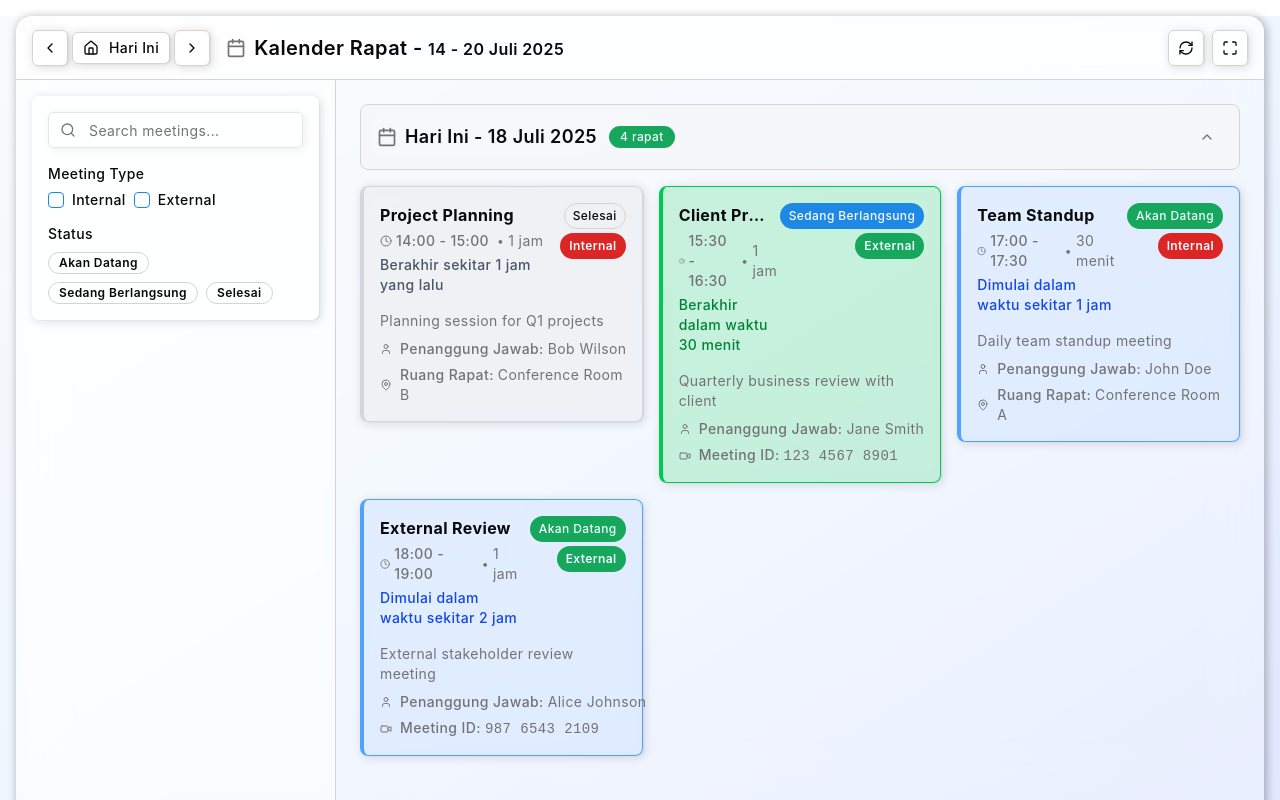
Test case: PublicCalendar Integration Tests › Date Navigation › should return to current week when today button is clicked
Expected: the heading "Team Standup" is shown, [977, 205, 1095, 225]
Note: Navigate away first
Click the button titled "Minggu selanjutnya" at (192, 48), box [174, 30, 210, 66]
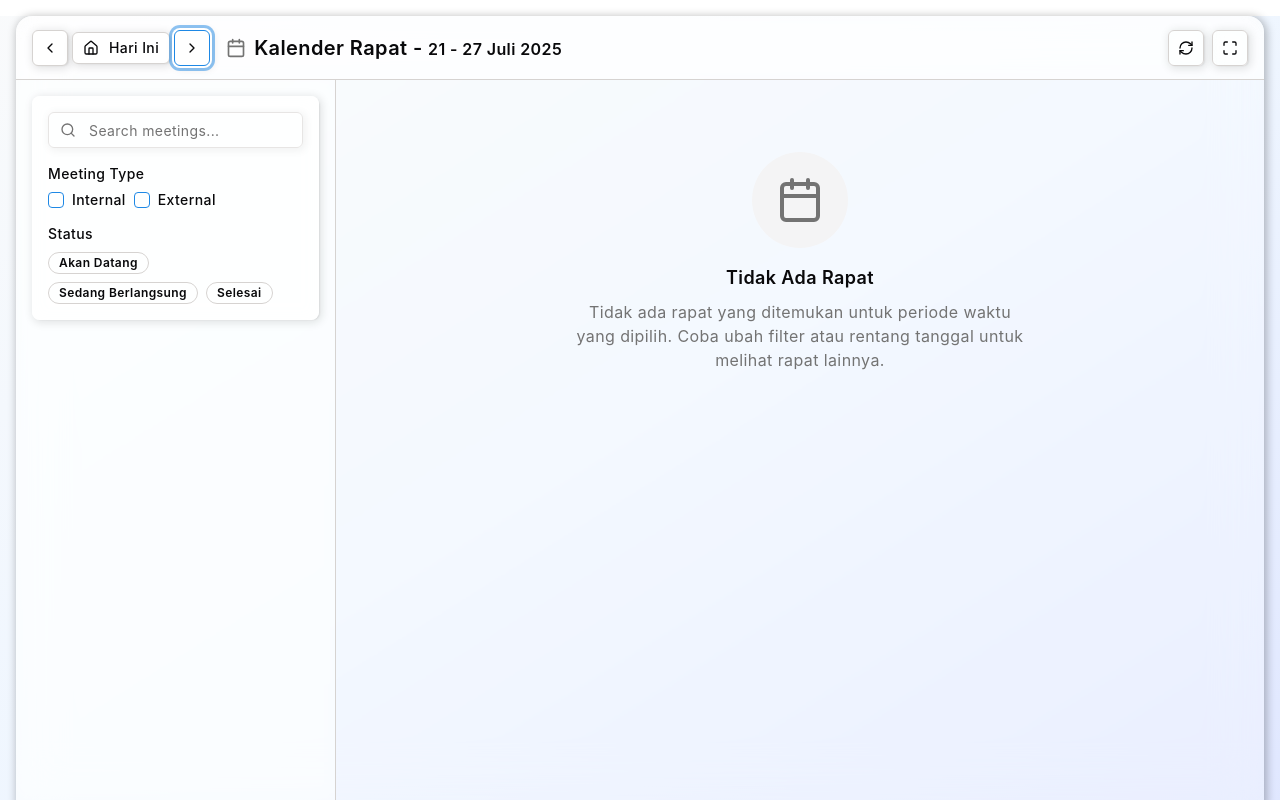
Note: Then click today button
Click the button "Hari Ini" at (121, 48), box [72, 32, 170, 64]
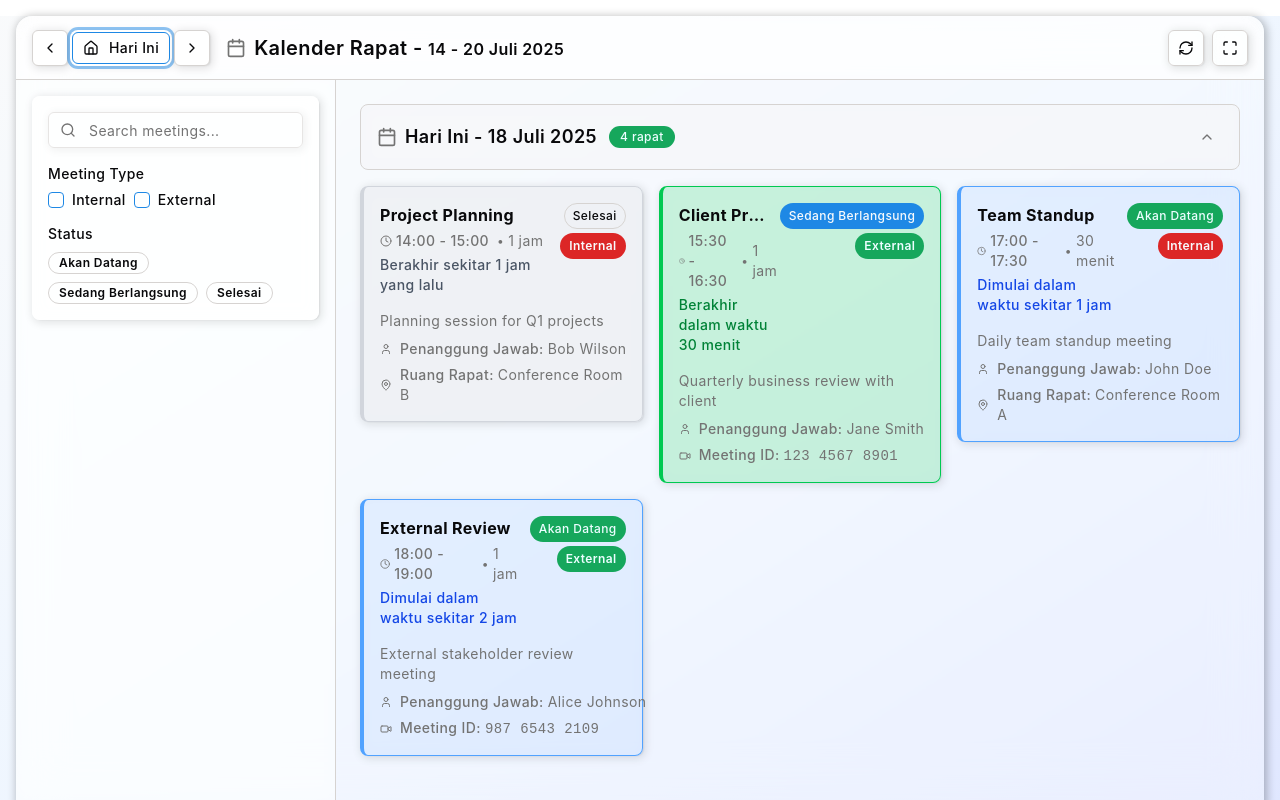
Result: the heading "Team Standup" is shown at [977, 205, 1095, 225]
